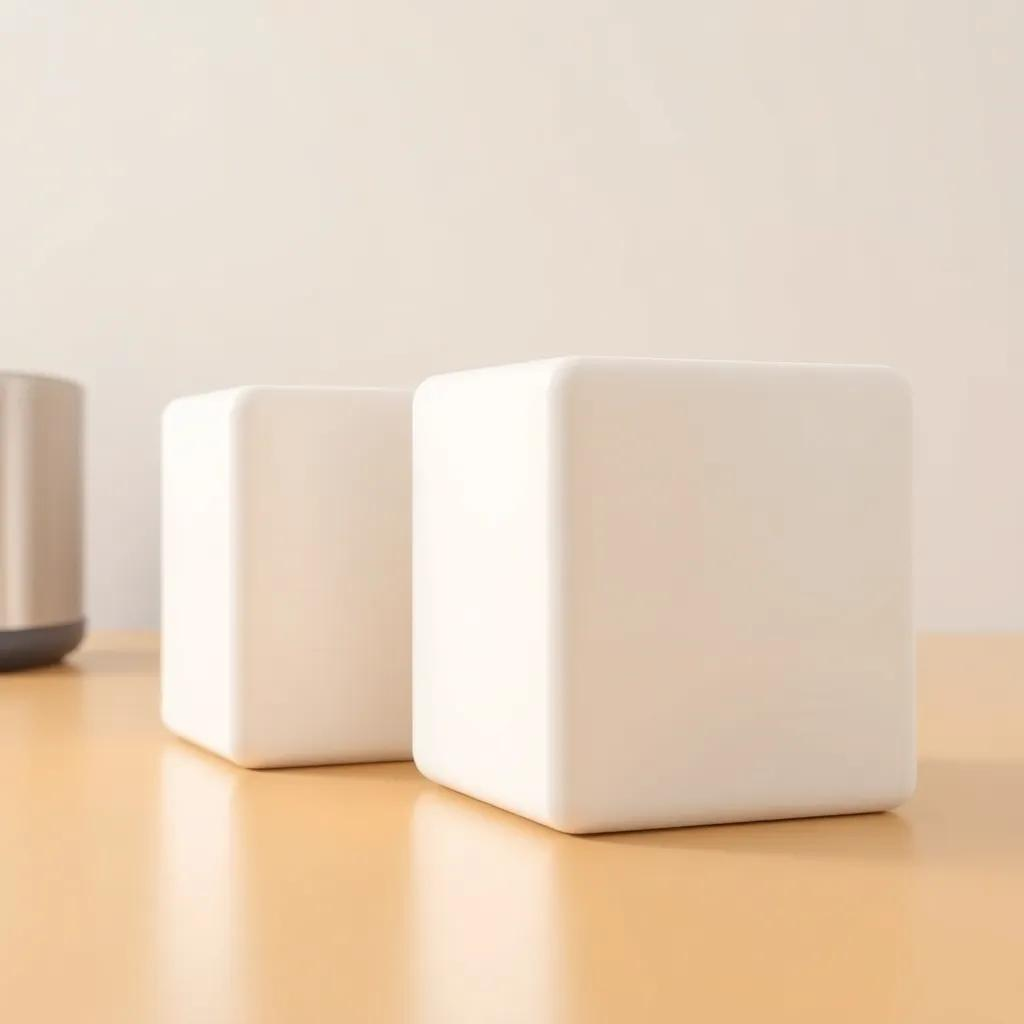cube: (409, 353, 917, 835), (158, 382, 413, 769)
